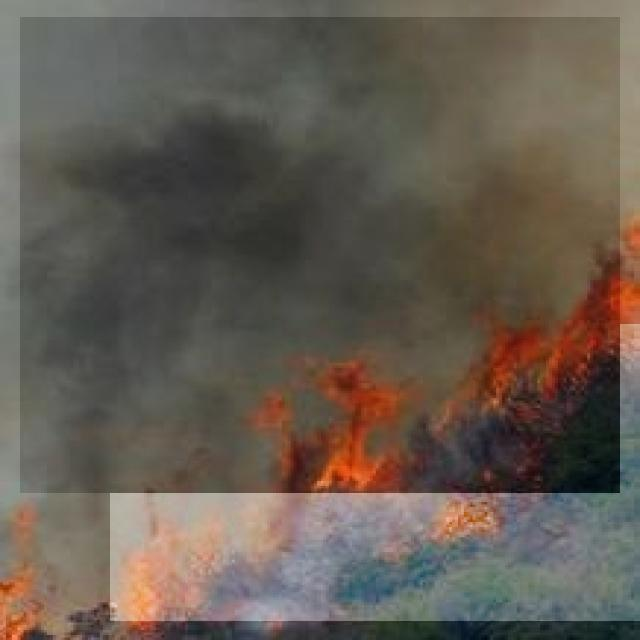Fire: (110, 324, 640, 621)
Smoke: (20, 18, 620, 494)
